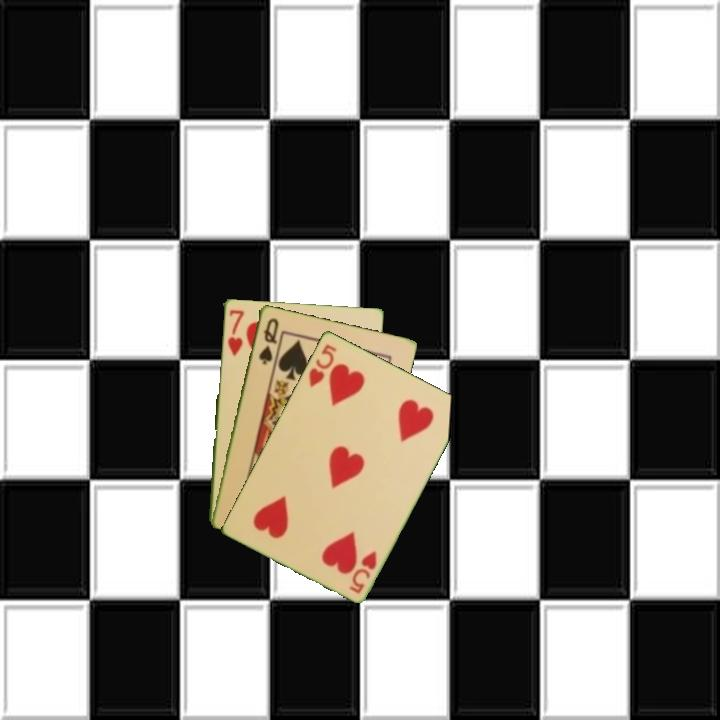5h: (305, 340, 339, 390), (346, 547, 380, 596)
7h: (224, 306, 246, 358)
Qs: (255, 314, 281, 367)
